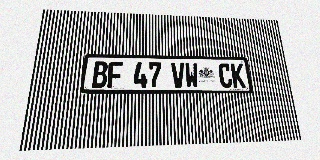4: (133, 62, 147, 88)
7: (148, 62, 162, 88)
B: (92, 61, 108, 88)
C: (218, 63, 233, 88)
F: (107, 61, 123, 88)
K: (231, 63, 246, 88)
V: (171, 62, 185, 88)
W: (184, 63, 199, 88)
